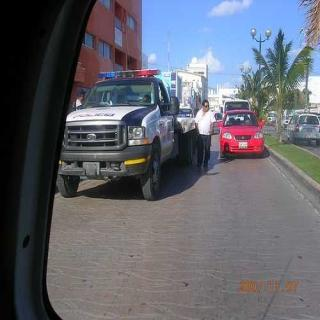Towing_truck: (56, 66, 191, 202)
